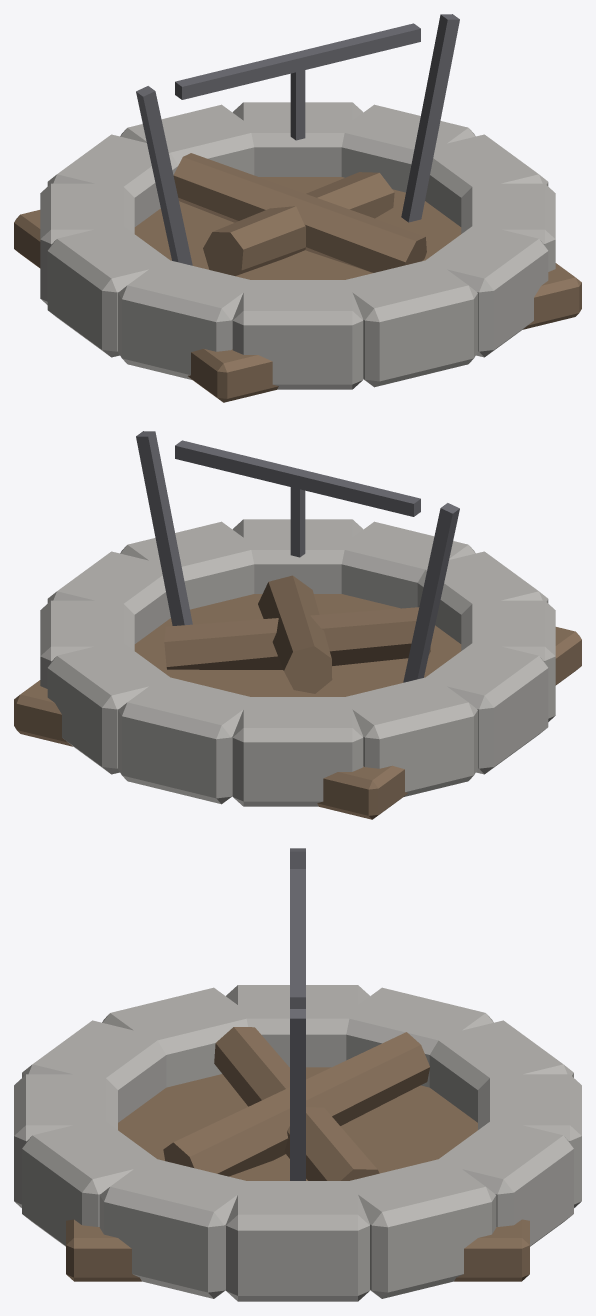
The model's file is are_central_hearth.glb.
3 renders of one model, top to bottom at view 1: azimuth 30°, elevation 25°; view 2: azimuth 150°, elevation 25°; view 3: azimuth 270°, elevation 25°, orthographic. The views are drawn at different scales.
Parts seen in each view (by area): view 1: are_central_hearth; view 2: are_central_hearth; view 3: are_central_hearth.
Boxes of the visible parts, box(x1,y1,x2,y2) form: are_central_hearth: box(14, 14, 581, 402); are_central_hearth: box(14, 431, 581, 819); are_central_hearth: box(14, 848, 581, 1301).
Bounding box in the file's own units: 1.42 × 0.7074 × 1.42.
